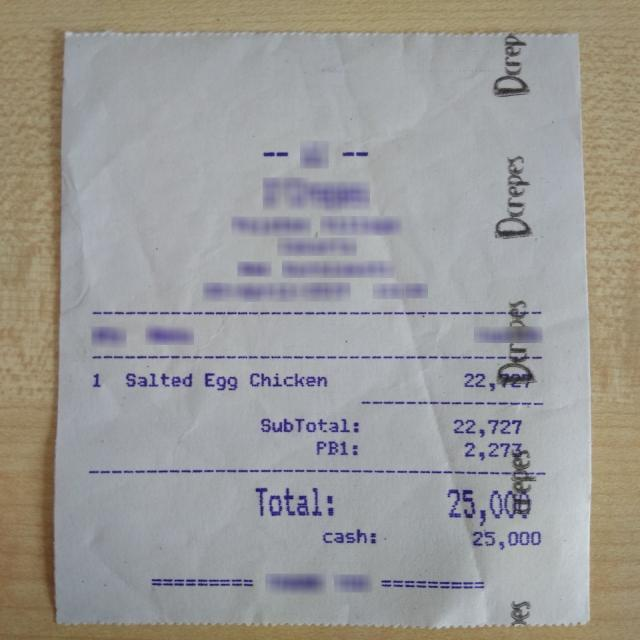kertas: (55, 32, 590, 628)
